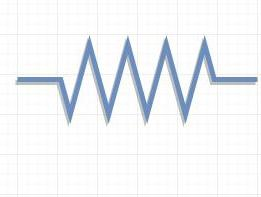resistor: (33, 30, 225, 127)
